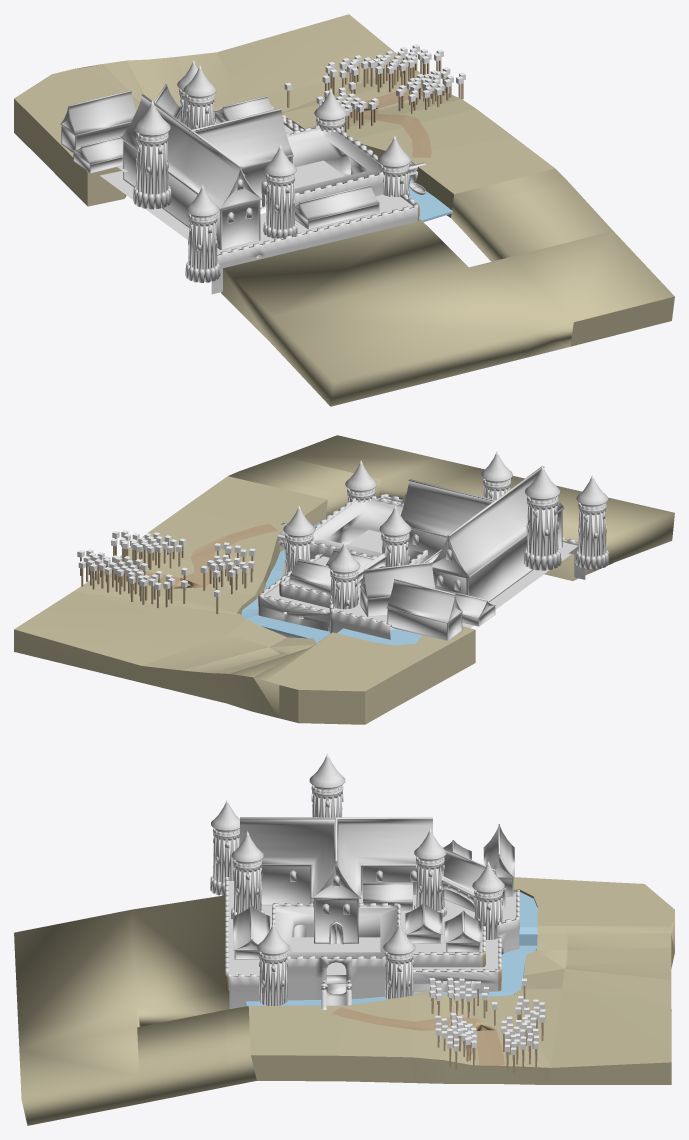
Rendered from Castle.fbx.
3 renders of one model, top to bottom at view 1: azimuth 30°, elevation 25°; view 2: azimuth 150°, elevation 25°; view 3: azimuth 270°, elevation 25°, orthographic. The views are drawn at different scales.
Parts seen in each view (by area): view 1: ChapterOneFullBlockout, mansion, castle, tower.004, houses.001, tower.003, house wide long, tower.002, floor, tower.008, house tall.004, tower.001 (+3 smaller); view 2: ChapterOneFullBlockout, mansion, castle, houses.001, tower.008, tower.004, tower.003, houses.002, floor, tower, house tall.003, tower.002 (+3 smaller); view 3: ChapterOneFullBlockout, mansion, castle, floor, tower.008, tower.001, tower.002, tower.003, tower, tower.004, house wide long, houses.002 (+5 smaller).
Boxes of the visible parts, left/top/right/bottom form: ChapterOneFullBlockout: left=14, top=14, right=674, bottom=406; mansion: left=120, top=94, right=293, bottom=249; castle: left=211, top=106, right=419, bottom=294; tower.004: left=133, top=100, right=171, bottom=209; houses.001: left=60, top=90, right=136, bottom=152; tower.003: left=185, top=184, right=220, bottom=282; house wide long: left=294, top=185, right=379, bottom=229; tower.002: left=263, top=145, right=297, bottom=238; floor: left=117, top=122, right=413, bottom=254; tower.008: left=177, top=60, right=216, bottom=129; house tall.004: left=72, top=136, right=122, bottom=173; tower.001: left=378, top=135, right=411, bottom=196; ChapterOneFullBlockout: left=14, top=435, right=674, bottom=724; mansion: left=400, top=466, right=564, bottom=601; castle: left=258, top=493, right=585, bottom=639; houses.001: left=386, top=579, right=462, bottom=641; tower.008: left=328, top=505, right=411, bottom=632; tower.004: left=523, top=465, right=561, bottom=570; tower.003: left=575, top=475, right=609, bottom=569; houses.002: left=360, top=562, right=435, bottom=617; floor: left=264, top=499, right=577, bottom=627; tower: left=283, top=505, right=315, bottom=575; house tall.003: left=288, top=558, right=331, bottom=595; tower.002: left=481, top=451, right=512, bottom=499; ChapterOneFullBlockout: left=14, top=877, right=674, bottom=1125; mansion: left=240, top=817, right=432, bottom=943; castle: left=225, top=877, right=519, bottom=1009; floor: left=228, top=881, right=516, bottom=975; tower.008: left=414, top=828, right=504, bottom=954; tower.001: left=257, top=923, right=289, bottom=1005; tower.002: left=231, top=831, right=264, bottom=919; tower.003: left=210, top=799, right=239, bottom=895; tower: left=383, top=923, right=415, bottom=999; tower.004: left=309, top=753, right=345, bottom=817; house wide long: left=233, top=905, right=270, bottom=959; houses.002: left=444, top=848, right=506, bottom=912.
Bounding box in the file's own units: 28326 × 13433 × 41001.
